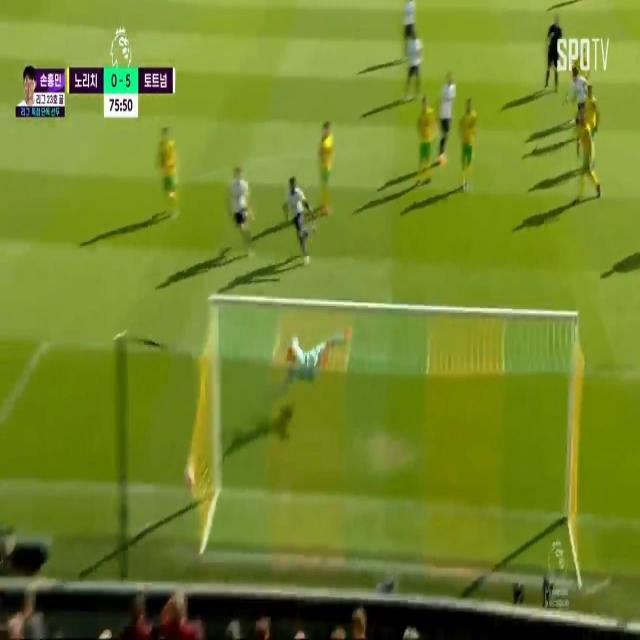ball: (184, 462, 198, 495)
goalkeeper: (256, 317, 359, 410)
player: (226, 162, 259, 257), (570, 111, 595, 205), (435, 75, 459, 172), (288, 173, 313, 264), (158, 121, 181, 219), (314, 116, 335, 212), (460, 95, 477, 193), (414, 92, 435, 170), (401, 33, 429, 90), (578, 85, 600, 133), (398, 0, 421, 42), (570, 64, 590, 100)
referee: (545, 14, 561, 91)
